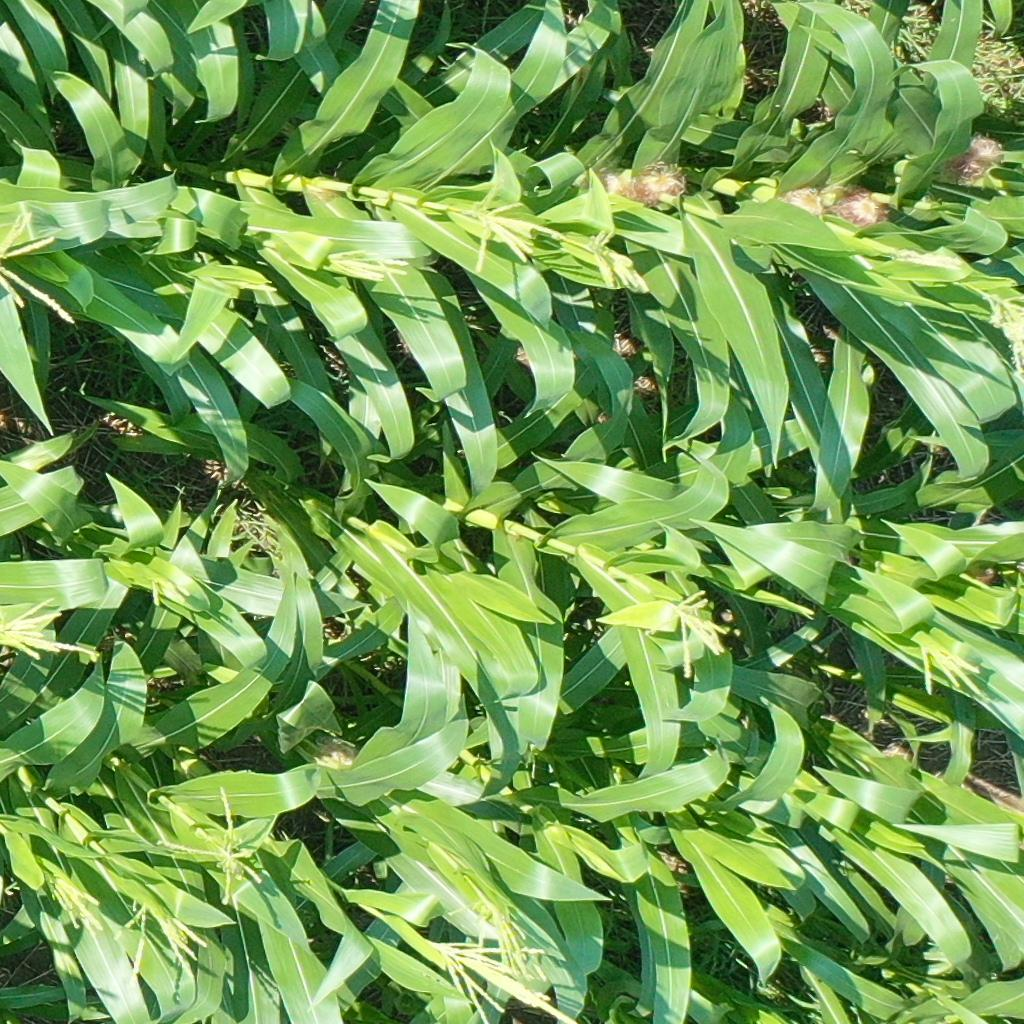Tassel: (157, 787, 282, 905), (430, 939, 545, 1024), (1, 206, 82, 324), (111, 895, 210, 980), (473, 883, 555, 984), (647, 584, 730, 679), (464, 195, 568, 268), (1, 596, 106, 665), (584, 222, 654, 297), (916, 635, 992, 699), (40, 868, 108, 936), (974, 283, 1024, 375), (323, 245, 411, 283), (140, 574, 199, 614), (215, 273, 280, 298)
